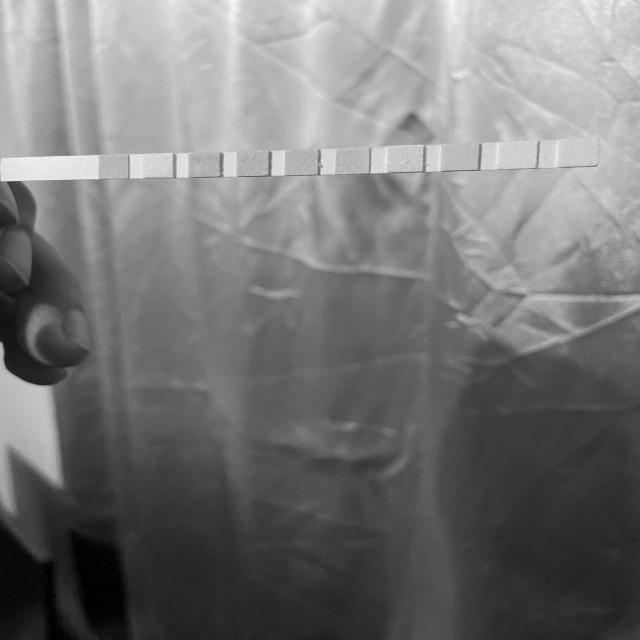Bilirubin: (143, 154, 173, 178)
Blood: (285, 149, 318, 175)
Glucose: (99, 155, 128, 179)
Ketone: (188, 153, 219, 177)
Leukocytes: (559, 139, 598, 166)
Nitrite: (499, 142, 536, 168)
Protein: (388, 146, 422, 172)
SpGravity: (236, 151, 268, 176)
Urobilinogen: (442, 144, 478, 170)
background: (0, 0, 640, 640)
pH: (336, 148, 369, 174)
strip: (0, 138, 599, 182)
